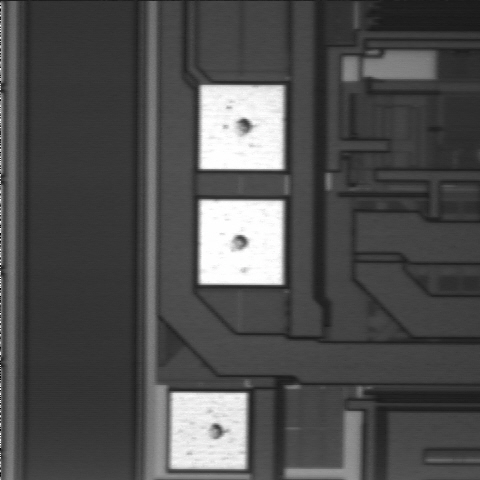pad: (199, 200, 283, 285), (200, 85, 284, 169), (170, 393, 247, 469)
